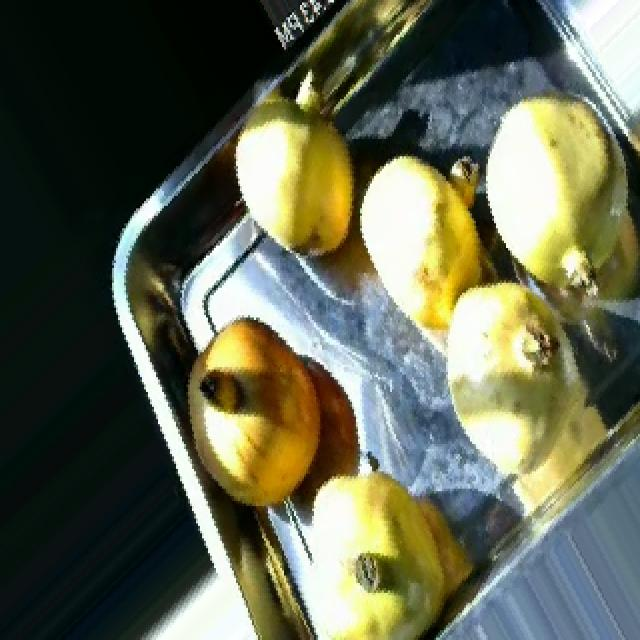fruit: (160, 295, 348, 536), (290, 441, 484, 640), (204, 70, 380, 286), (338, 126, 500, 354)
